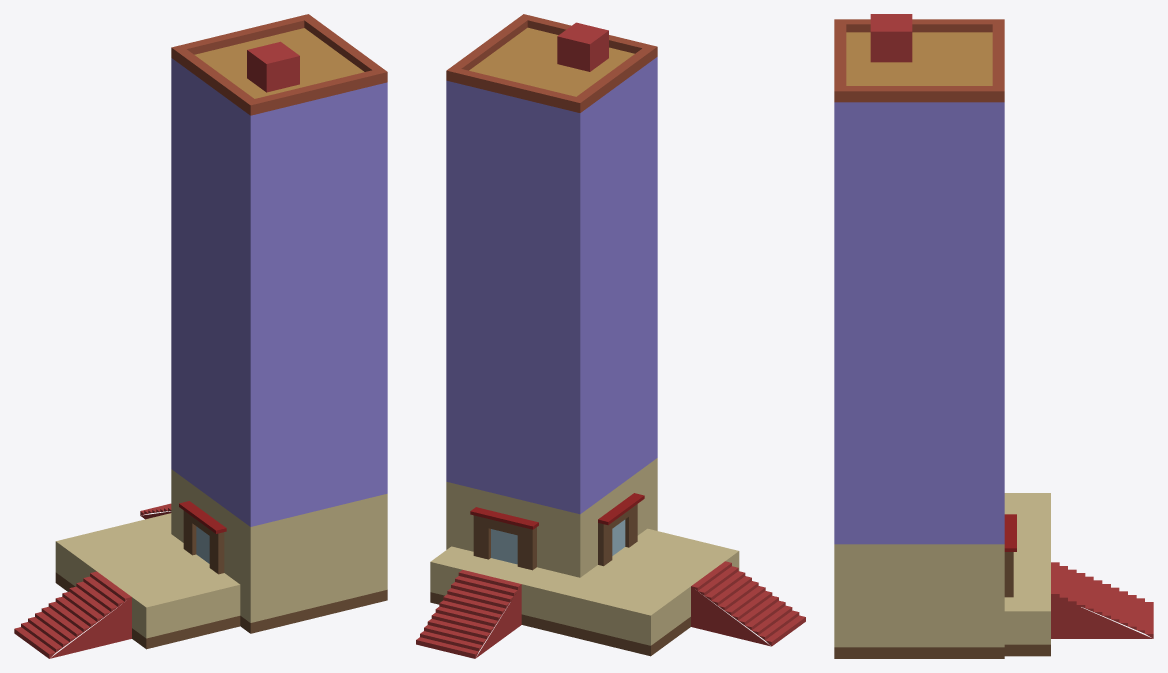
Rendered from Target_Building_4.fbx.
3 renders of one model, left to right at view 1: azimuth 30°, elevation 25°; view 2: azimuth 150°, elevation 25°; view 3: azimuth 270°, elevation 25°, orthographic. The views are drawn at different scales.
Parts seen in each view (by area): view 1: Building_4; view 2: Building_4; view 3: Building_4.
Boxes of the visible parts, <box> form: Building_4: <box>14,14,387,658</box>; Building_4: <box>416,14,805,658</box>; Building_4: <box>834,14,1153,658</box>.
Size of the model in its own units: 214 by 357 by 175.
